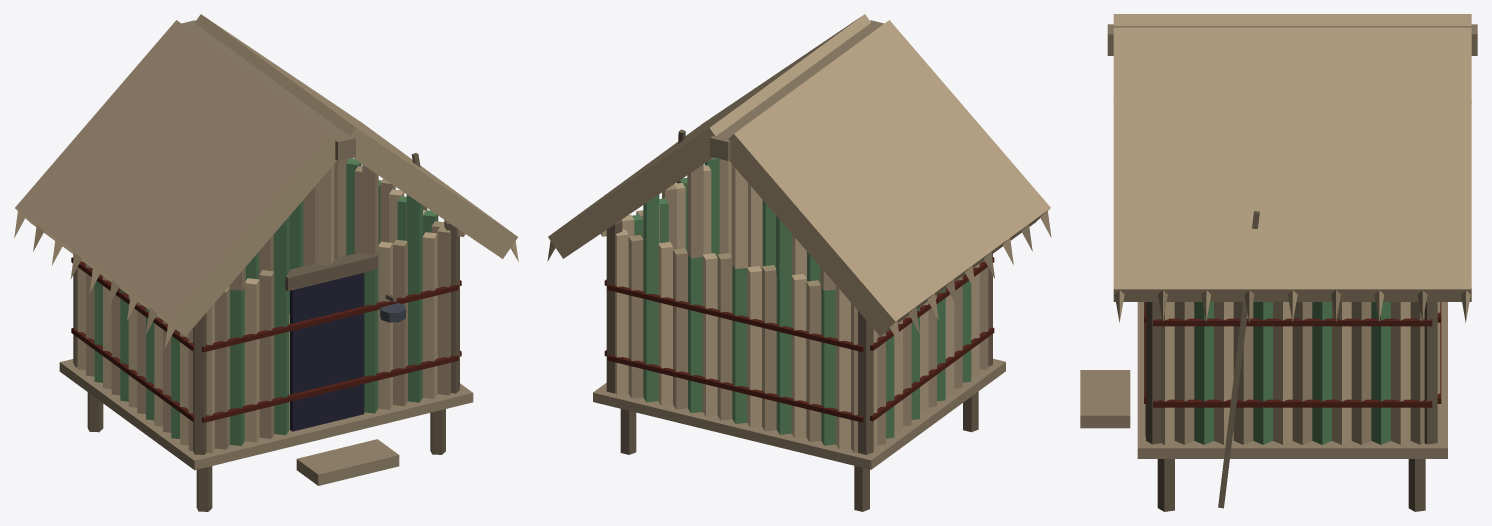
The model's file is reed_house.glb.
3 renders of one model, left to right at view 1: azimuth 30°, elevation 25°; view 2: azimuth 150°, elevation 25°; view 3: azimuth 270°, elevation 25°, orthographic. The views are drawn at different scales.
Visible parts, largest first — view 1: driftwood_d12, driftwood_d18, moss_d5, driftwood_d5, driftwood_d25, ink_l5, driftwood_d45, coal_d55, driftwood_d30; view 2: driftwood_d12, driftwood_d5, driftwood_d18, moss_d5, driftwood_d25, driftwood_d45, coal_d55, driftwood_d30; view 3: driftwood_d12, driftwood_d5, driftwood_d18, moss_d5, driftwood_d25, driftwood_d45, coal_d55, driftwood_d30.
Part boxes in pixels (<box>): driftwood_d12: <box>15,14,517,336</box>; driftwood_d18: <box>33,160,450,451</box>; moss_d5: <box>94,158,438,445</box>; driftwood_d5: <box>14,157,518,453</box>; driftwood_d25: <box>59,314,473,485</box>; ink_l5: <box>290,273,364,431</box>; driftwood_d45: <box>73,153,459,511</box>; coal_d55: <box>71,257,461,422</box>; driftwood_d30: <box>181,20,355,160</box>; driftwood_d12: <box>548,14,1050,335</box>; driftwood_d5: <box>547,160,1051,450</box>; driftwood_d18: <box>622,159,1032,452</box>; moss_d5: <box>632,157,971,445</box>; driftwood_d25: <box>593,358,1005,469</box>; driftwood_d45: <box>606,129,992,511</box>; coal_d55: <box>604,257,994,422</box>; driftwood_d30: <box>710,20,883,160</box>; driftwood_d12: <box>1113,14,1471,301</box>; driftwood_d5: <box>1114,102,1471,444</box>; driftwood_d18: <box>1145,290,1427,444</box>; moss_d5: <box>1194,302,1390,444</box>; driftwood_d25: <box>1080,302,1447,458</box>; driftwood_d45: <box>1146,211,1437,511</box>; coal_d55: <box>1144,302,1441,407</box>; driftwood_d30: <box>1107,24,1477,55</box>.
Bounding box in the file's own units: 3.94 × 3.9 × 3.33.
